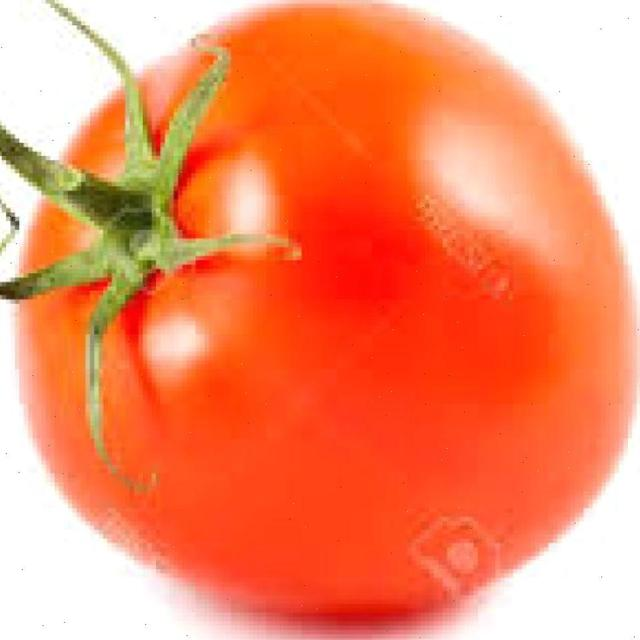Healthy Fruit: (5, 1, 422, 421)
